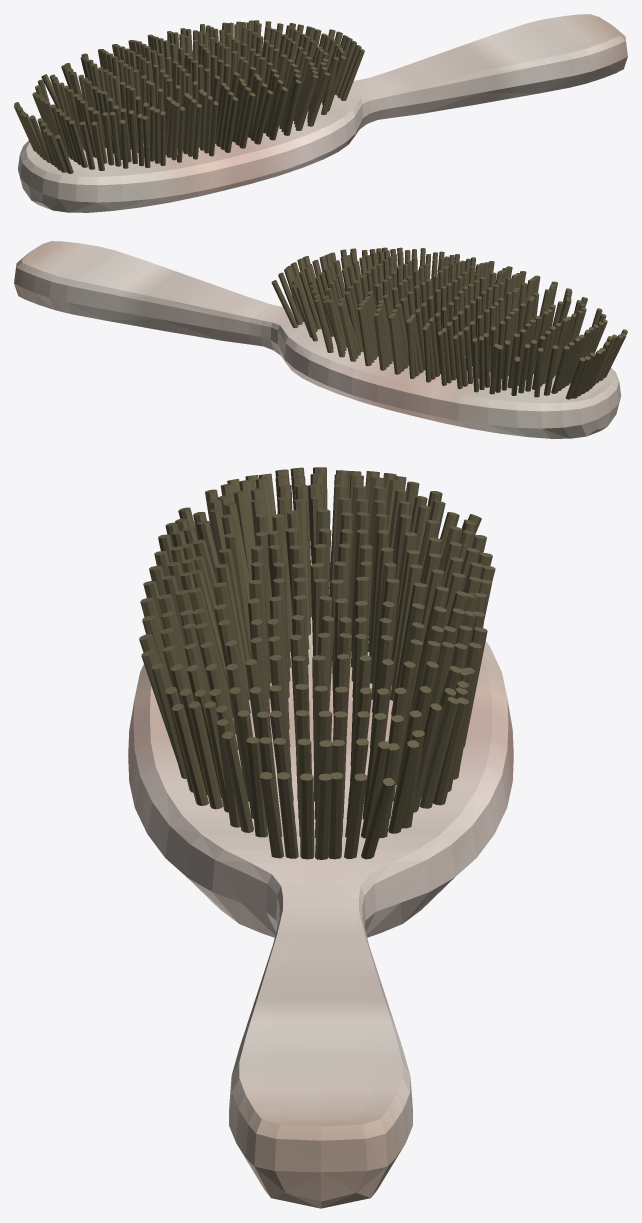
Rendered from sweethome3d-scopia-brush-103.glb.
3 renders of one model, top to bottom at view 1: azimuth 30°, elevation 25°; view 2: azimuth 150°, elevation 25°; view 3: azimuth 270°, elevation 25°, orthographic. The views are drawn at different scales.
Parts seen in each view (by area): view 1: Node, 2; view 2: Node, 2; view 3: Node, 2.
Boxes of the visible parts, <box> form: Node: <box>14,20,364,173</box>; 2: <box>18,14,627,212</box>; Node: <box>271,247,627,399</box>; 2: <box>14,241,621,438</box>; Node: <box>139,467,495,859</box>; 2: <box>128,582,513,1208</box>.
Size of the model in its own units: 19.16 by 3.5 by 5.46.
2 materials, 1 textured.
